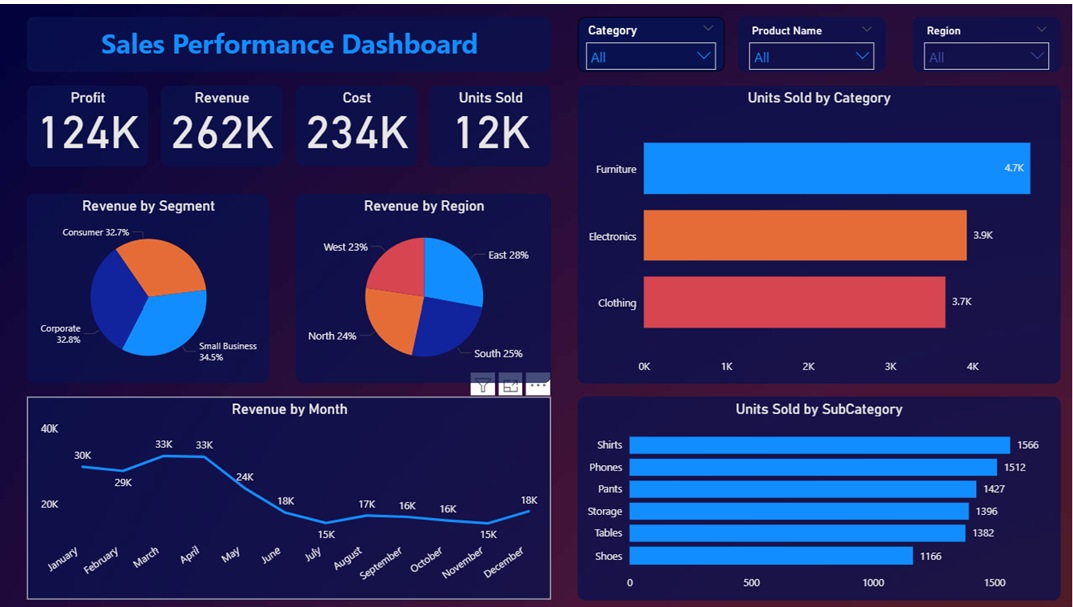

The dashboard page shown, as its layout file describes it:
{"tool":"powerbi","page":{"name":"Page 1","canvas":[1280,720],"ordinal":0},"visuals":[{"type":"barChart","title":" Units Sold by Category","fields":{"Category":["Sales_Data_Project.Category"],"Y":["Sum(Sales_Data_Project.Units Sold)"]},"box":[688,96,576,352],"z":0},{"type":"lineChart","title":" Revenue by Month","fields":{"Y":["Sum(Sales_Data_Project.Revenue)"],"Category":["Sales_Data_Project.Order Date.Variation.Date Hierarchy.Month"]},"box":[32,464,624,240],"z":1000},{"type":"pieChart","title":" Revenue by Region","fields":{"Y":["Sum(Sales_Data_Project.Revenue)"],"Category":["Sales_Data_Project.Region"]},"box":[352,224,304,224],"z":2000},{"type":"pieChart","title":"Revenue by Segment","fields":{"Y":["Sum(Sales_Data_Project.Revenue)"],"Category":["Sales_Data_Project.Segment"]},"box":[32,224,288,224],"z":3000},{"type":"card","title":"Revenue","fields":{"Values":["Sum(Sales_Data_Project.Revenue)"]},"box":[192,96,144,96],"z":4000},{"type":"card","title":"Cost","fields":{"Values":["Sum(Sales_Data_Project.Cost)"]},"box":[352,96,144,96],"z":5000},{"type":"card","title":"Profit","fields":{"Values":["Sum(Sales_Data_Project.Profit)"]},"box":[32,96,144,96],"z":6000},{"type":"card","title":"Units Sold","fields":{"Values":["Sum(Sales_Data_Project.Units Sold)"]},"box":[512,96,144,96],"z":7000},{"type":"slicer","fields":{"Values":["Sales_Data_Project.Category"]},"box":[688,16,176,64],"z":8000},{"type":"slicer","fields":{"Values":["Sales_Data_Project.Product Name"]},"box":[880,16,176,64],"z":9000},{"type":"slicer","fields":{"Values":["Sales_Data_Project.Region"]},"box":[1088,16,176,64],"z":10000},{"type":"barChart","title":" Units Sold by SubCategory","fields":{"Category":["Sales_Data_Project.Sub-Category"],"Y":["Sum(Sales_Data_Project.Units Sold)"]},"box":[688,464,576,240],"z":11000},{"type":"textbox","box":[32,16,624,64],"z":12000}]}

Visuals, with their boxes in screenshot pixels (x1, y1, x2, y2), scaled from the page's 1280x720 canvas onto the 1073x607 screenshot:
" Units Sold by Category" barChart: detection(577, 81, 1060, 378)
" Revenue by Month" lineChart: detection(27, 391, 550, 594)
" Revenue by Region" pieChart: detection(295, 189, 550, 378)
"Revenue by Segment" pieChart: detection(27, 189, 268, 378)
"Revenue" card: detection(161, 81, 282, 162)
"Cost" card: detection(295, 81, 416, 162)
"Profit" card: detection(27, 81, 148, 162)
"Units Sold" card: detection(429, 81, 550, 162)
slicer - Sales_Data_Project.Category: detection(577, 13, 724, 67)
slicer - Sales_Data_Project.Product Name: detection(738, 13, 885, 67)
slicer - Sales_Data_Project.Region: detection(912, 13, 1060, 67)
" Units Sold by SubCategory" barChart: detection(577, 391, 1060, 594)
textbox: detection(27, 13, 550, 67)
